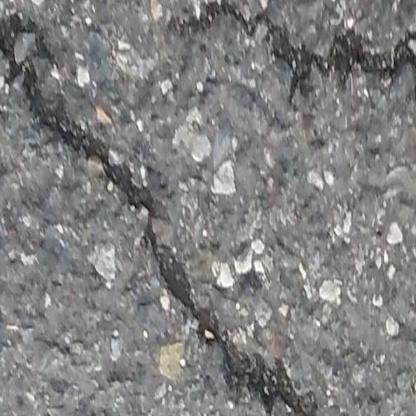Cracks: (0, 0, 350, 416), (148, 0, 416, 120)
